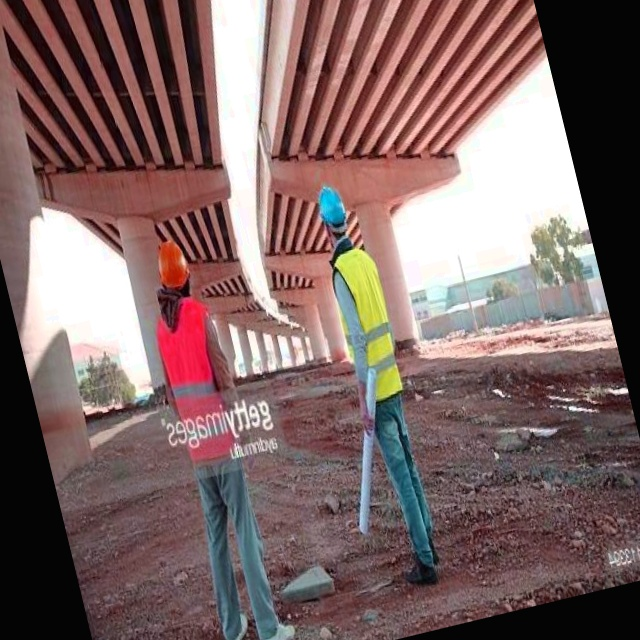Con_Casco: (153, 240, 193, 300)
Con_Chaleco: (322, 245, 408, 405)
